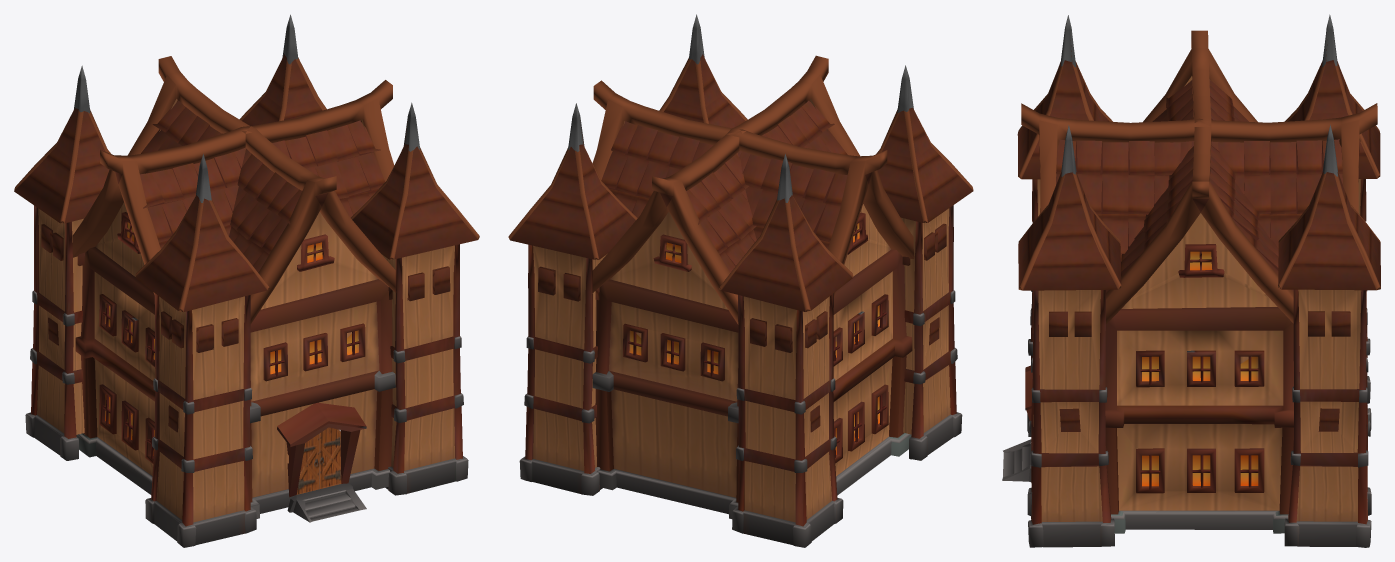
The model's file is Castle.fbx.
3 views of the same model, side by side, from view 1: azimuth 30°, elevation 25°; view 2: azimuth 150°, elevation 25°; view 3: azimuth 270°, elevation 25° (orthographic). The views are drawn at different scales.
Parts seen in each view (by area): view 1: Castle; view 2: Castle; view 3: Castle.
Boxes of the visible parts, x1,y1,x2,y2 form: Castle: (14, 14, 479, 547); Castle: (508, 14, 973, 547); Castle: (1002, 14, 1380, 547).
Bounding box in the file's own units: 5.5 × 6.5 × 5.5.
